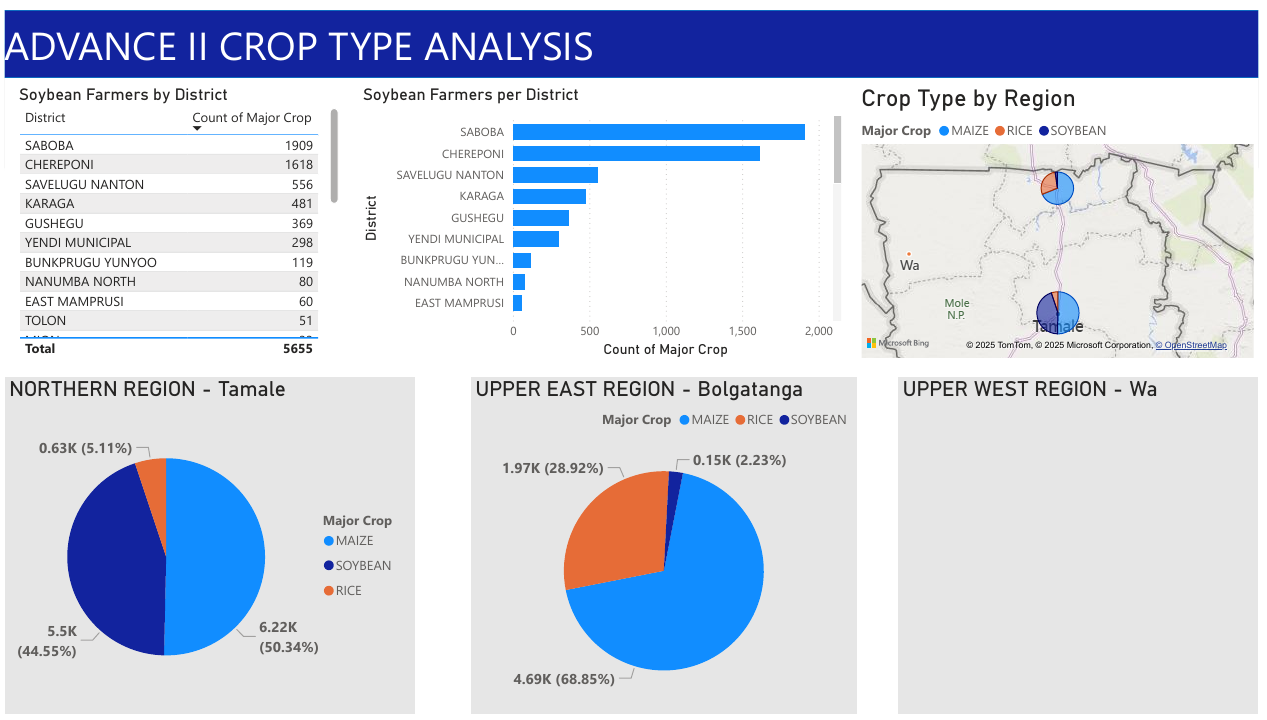

Layout of this report page (visuals, bound fields, positions):
{"tool":"powerbi","page":{"name":"Question 2","canvas":[1280,720],"ordinal":2},"visuals":[{"type":"textbox","box":[10,0,280,280],"z":0},{"type":"shape","box":[0,0,1280,69],"z":1000},{"type":"pieChart","title":"NORTHERN REGION - Tamale","fields":{"Y":["CountNonNull(clean_data.Major Crop)"],"Category":["clean_data.Major Crop"]},"box":[0,375.3,418.6,344.7],"z":2000},{"type":"pieChart","title":"UPPER EAST REGION - Bolgatanga","fields":{"Y":["CountNonNull(clean_data.Major Crop)"],"Category":["clean_data.Major Crop"]},"box":[475.7,375.3,394,344.7],"z":3000},{"type":"pieChart","title":"UPPER WEST REGION - Wa","fields":{"Y":["CountNonNull(clean_data.Major Crop)"],"Category":["clean_data.Major Crop"]},"box":[912.1,375.3,368.4,344.7],"z":4000},{"type":"tableEx","title":"Soybean Farmers by District","fields":{"Values":["clean_data.District","clean_data.Major Crop"]},"box":[9.8,75.8,335.9,284.7],"z":5000},{"type":"barChart","title":"Soybean Farmers per District","fields":{"Category":["clean_data.District"],"Y":["CountNonNull(clean_data.Major Crop)"]},"box":[361,76,498,284],"z":6000},{"type":"map","title":"Crop Type by Region","fields":{"Category":["clean_data.Regional Office"],"Series":["clean_data.Major Crop"],"Size":["CountNonNull(clean_data.Major Crop)"]},"box":[870,76,410,284],"z":7000}]}

Visuals, with their boxes in screenshot pixels (x1, y1, x2, y2), scaled from the page's 1280x720 canvas onto the 1267x720 screenshot:
textbox: 10:0:287:280
shape: 0:0:1266:69
"NORTHERN REGION - Tamale" pieChart: 0:375:414:719
"UPPER EAST REGION - Bolgatanga" pieChart: 471:375:861:719
"UPPER WEST REGION - Wa" pieChart: 903:375:1266:719
"Soybean Farmers by District" tableEx: 10:76:342:360
"Soybean Farmers per District" barChart: 357:76:850:360
"Crop Type by Region" map: 861:76:1266:360
